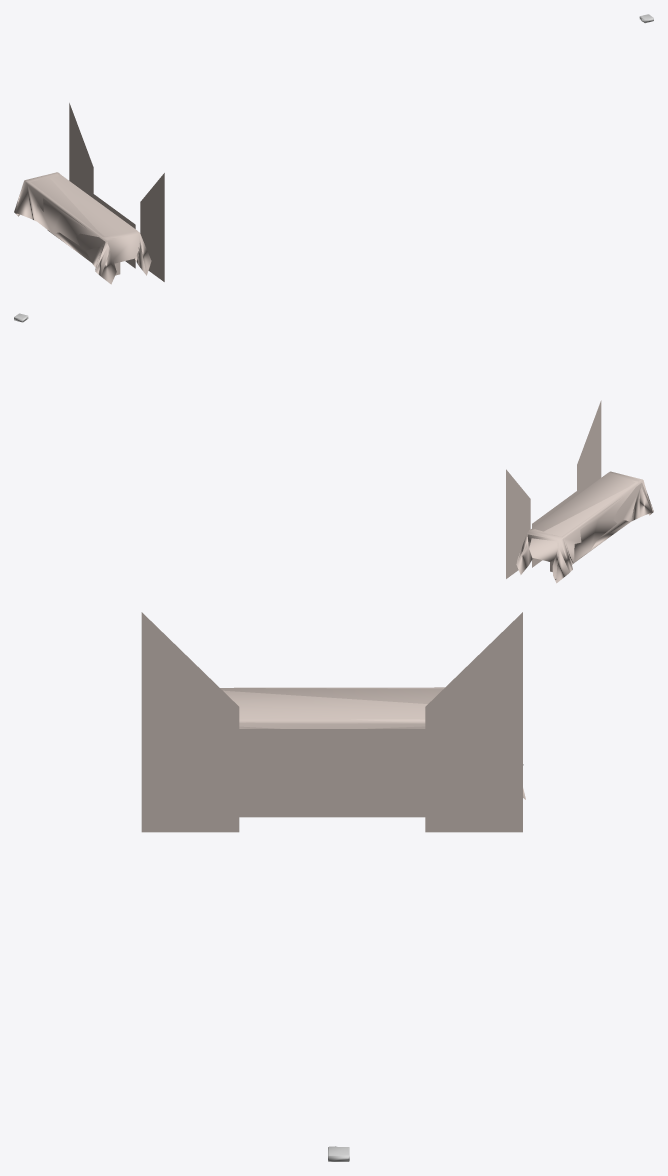
3 views of the same model, one above another, from view 1: azimuth 30°, elevation 25°; view 2: azimuth 150°, elevation 25°; view 3: azimuth 270°, elevation 25° (orthographic). The views are drawn at different scales.
Parts seen in each view (by area): view 1: table5, proj_scene_5_triangles; view 2: table5, proj_scene_5_triangles; view 3: proj_scene_5_triangles, proj_scene_5_avant, table5.
Part boxes in pixels (left/top/right/bottom): table5: left=14, top=172, right=151, bottom=284; proj_scene_5_triangles: left=69, top=103, right=164, bottom=281; table5: left=516, top=471, right=653, bottom=583; proj_scene_5_triangles: left=506, top=400, right=601, bottom=578; proj_scene_5_triangles: left=141, top=612, right=522, bottom=832; proj_scene_5_avant: left=239, top=729, right=425, bottom=817; table5: left=220, top=687, right=525, bottom=799.
Bounding box in the file's own units: 3.89 × 0.6863 × 1.09.
